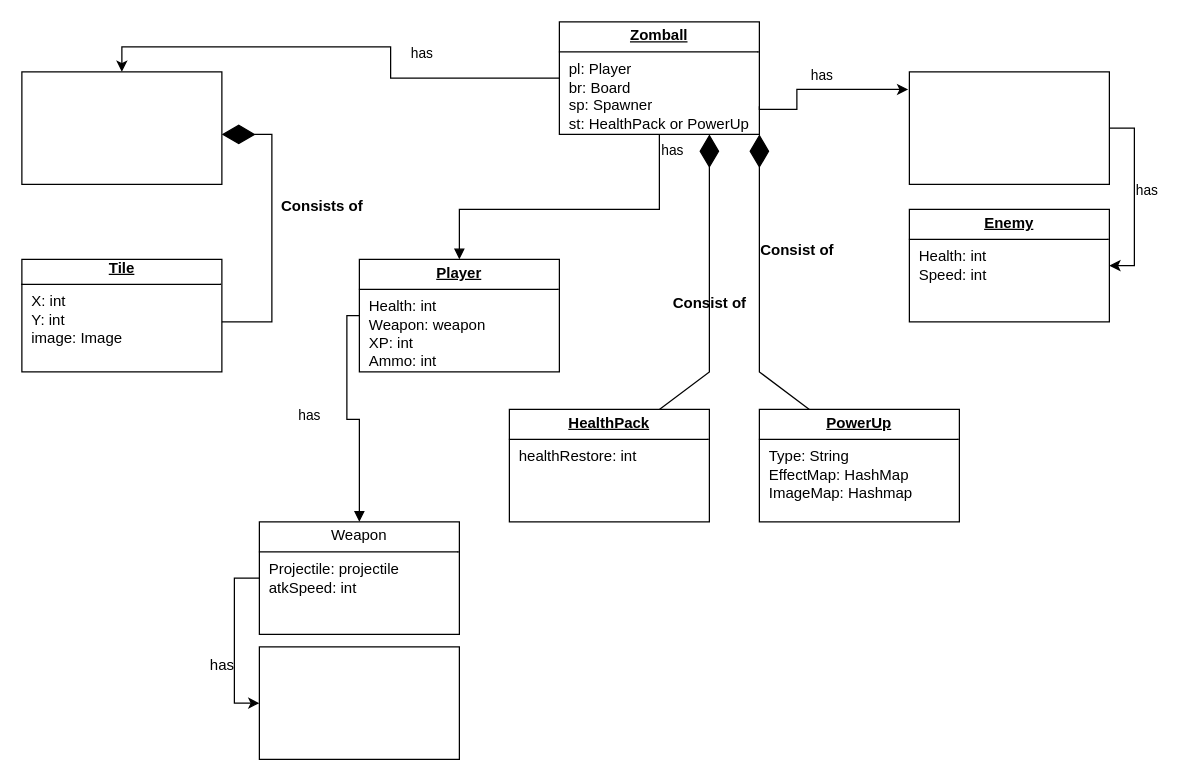
This 1194x781 diagram has some shape labels left out. The shapes that lost their labels are listed below. From the top down, each one's centre as x and y in pixels, then its label:
point (121, 127): Board - tiles: Tile [] width: int height: int
point (1008, 127): Spawner eType: Enemy
point (358, 702): Projectile Damage: int Speed: int
